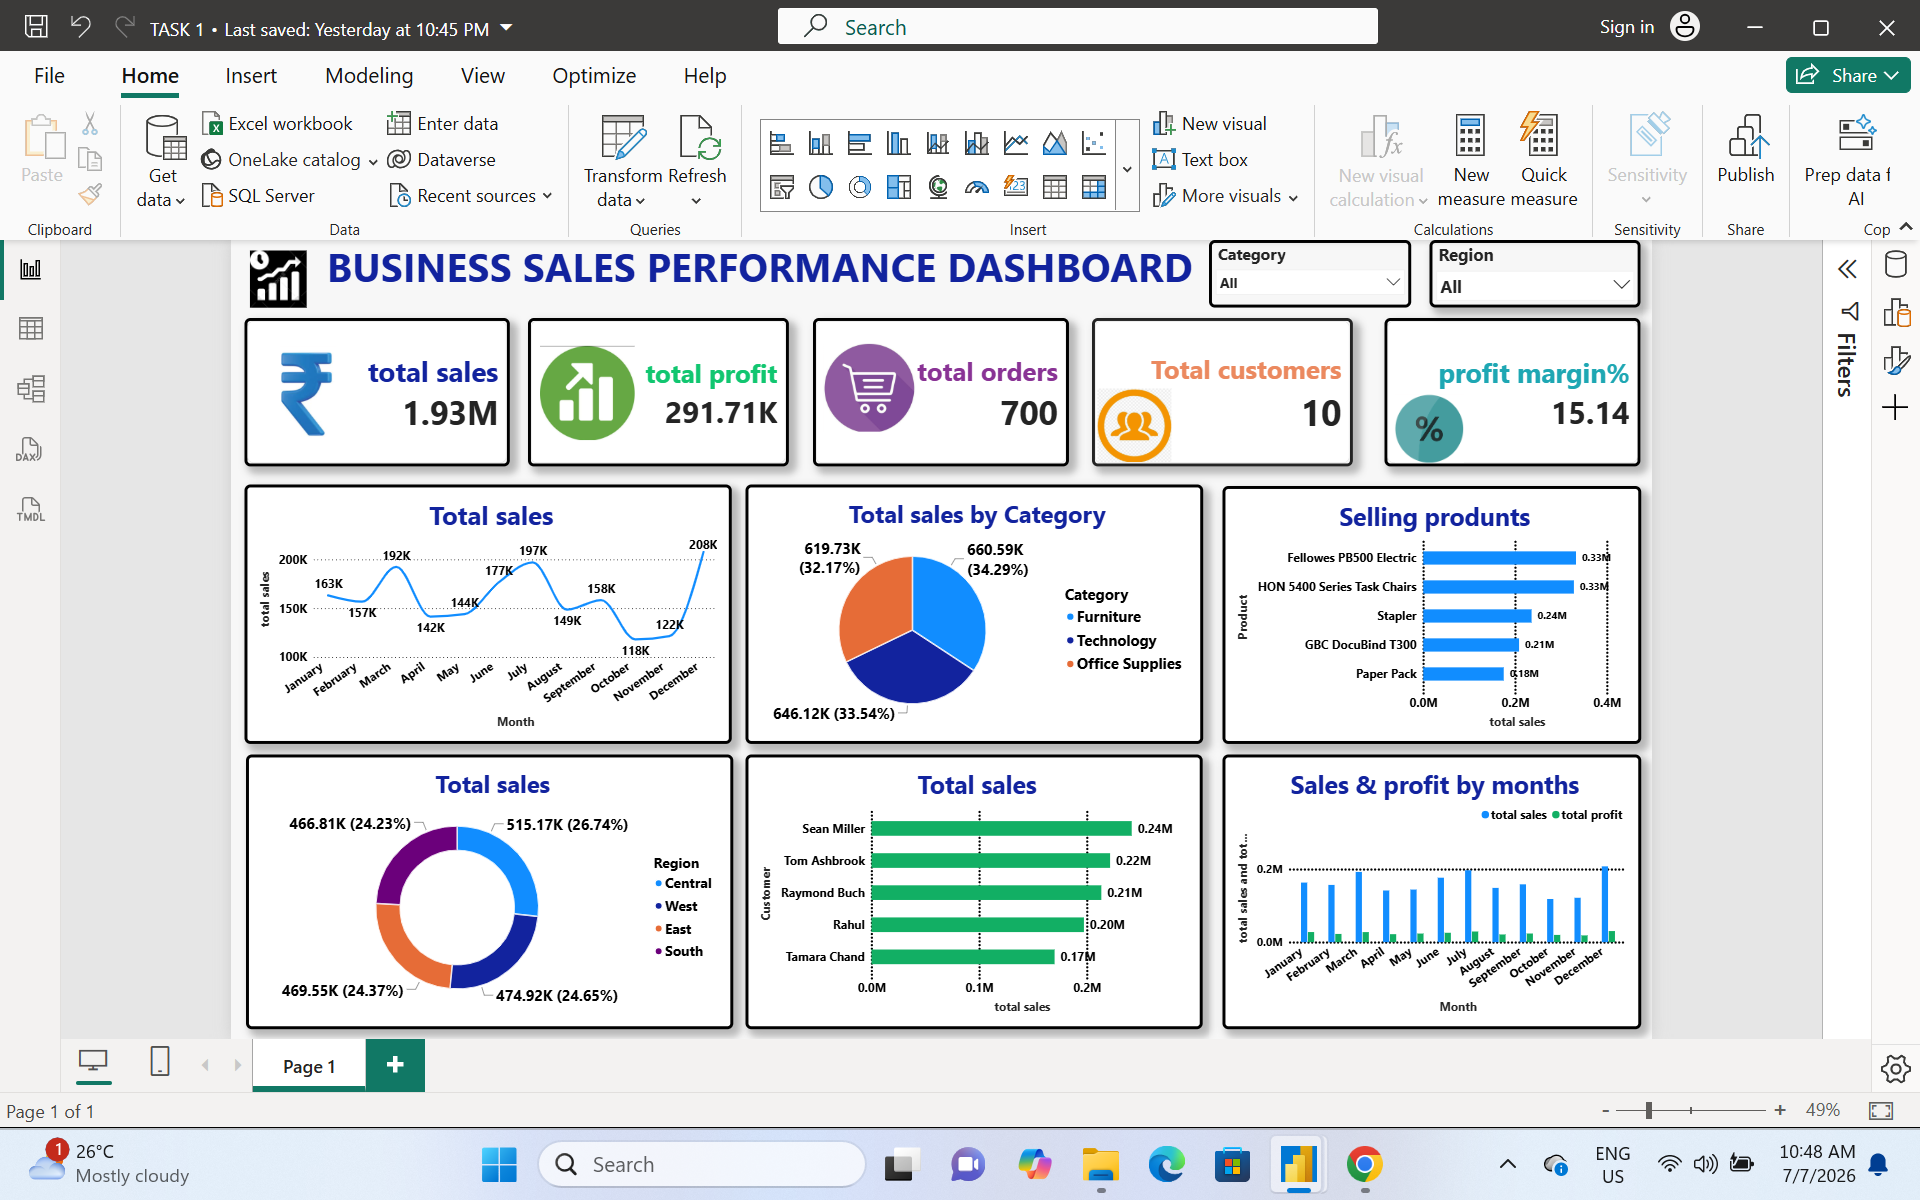

This screenshot's page, from the dashboard's own definition file:
{"tool":"powerbi","page":{"name":"Page 1","canvas":[1920,1080],"ordinal":0},"visuals":[{"type":"cardVisual","fields":{"Data":["SalesData.total sales"]},"box":[18.2,106.3,358.5,200.5],"z":0},{"type":"textbox","box":[129.9,0,1247.5,78],"z":1},{"type":"image","box":[20.3,14.2,87.2,77],"z":2},{"type":"cardVisual","fields":{"Data":["SalesData.total profit"]},"box":[401,106.3,352.4,200.5],"z":3},{"type":"cardVisual","fields":{"Data":["SalesData.total orders"]},"box":[786.8,106.3,346.3,200.5],"z":4},{"type":"cardVisual","fields":{"Data":["SalesData.total customers"]},"box":[1163.5,106.3,352.4,200.5],"z":5},{"type":"cardVisual","fields":{"Data":["SalesData.profit margin%"]},"box":[1558.5,106.3,346.3,200.5],"z":6},{"type":"lineChart","title":"Total sales","fields":{"Category":["SalesData.Order Date.Variation.Date Hierarchy.Month"],"Y":["SalesData.total sales"]},"box":[18.2,330.5,659,350.8],"z":7},{"type":"pieChart","title":"Total sales by Category","fields":{"Category":["SalesData.Category"],"Y":["SalesData.total sales"]},"box":[695.5,330.5,618.4,350.8],"z":8},{"type":"barChart","title":"Selling produnts","fields":{"Category":["SalesData.Product"],"Y":["SalesData.total sales"]},"box":[1340.2,332.5,565.7,348.7],"z":9},{"type":"donutChart","title":"Total sales","fields":{"Category":["SalesData.Region"],"Y":["SalesData.total sales"]},"box":[20.3,695.5,659,371],"z":10},{"type":"barChart","title":"Total sales","fields":{"Category":["SalesData.Customer"],"Y":["SalesData.total sales"]},"box":[695,695,618,371],"z":11},{"type":"clusteredColumnChart","title":"Sales & profit by months","fields":{"Category":["SalesData.Order Date.Variation.Date Hierarchy.Month"],"Y":["SalesData.total sales","SalesData.total profit"]},"box":[1340,695,566,371],"z":12},{"type":"slicer","fields":{"Values":["SalesData.Category"]},"box":[1321.5,0,273.4,91.1],"z":13},{"type":"slicer","fields":{"Values":["SalesData.Region"]},"box":[1619.2,0,285.6,91.1],"z":14},{"type":"image","box":[52.7,144,103.4,125.7],"z":15},{"type":"image","box":[417.7,129.8,127.7,154.1],"z":16},{"type":"image","box":[800.9,129.8,123.7,139.9],"z":17},{"type":"image","box":[1162.4,200.8,118.1,99.2],"z":19},{"type":"image","box":[1568.8,207.9,101.6,92.1],"z":20}]}

Visuals, with their boxes on the page's 1920x1080 design canvas (x1, y1, x2, y2). These are canvas units, not pixel positions in the 1920x1200 screenshot, which may show the page scaled, cropped or inside an application window:
cardVisual - SalesData.total sales: (18, 106, 377, 307)
textbox: (130, 0, 1377, 78)
image: (20, 14, 108, 91)
cardVisual - SalesData.total profit: (401, 106, 753, 307)
cardVisual - SalesData.total orders: (787, 106, 1133, 307)
cardVisual - SalesData.total customers: (1164, 106, 1516, 307)
cardVisual - SalesData.profit margin%: (1558, 106, 1905, 307)
"Total sales" lineChart: (18, 330, 677, 681)
"Total sales by Category" pieChart: (696, 330, 1314, 681)
"Selling produnts" barChart: (1340, 332, 1906, 681)
"Total sales" donutChart: (20, 696, 679, 1066)
"Total sales" barChart: (695, 695, 1313, 1066)
"Sales & profit by months" clusteredColumnChart: (1340, 695, 1906, 1066)
slicer - SalesData.Category: (1322, 0, 1595, 91)
slicer - SalesData.Region: (1619, 0, 1905, 91)
image: (53, 144, 156, 270)
image: (418, 130, 545, 284)
image: (801, 130, 925, 270)
image: (1162, 201, 1280, 300)
image: (1569, 208, 1670, 300)
